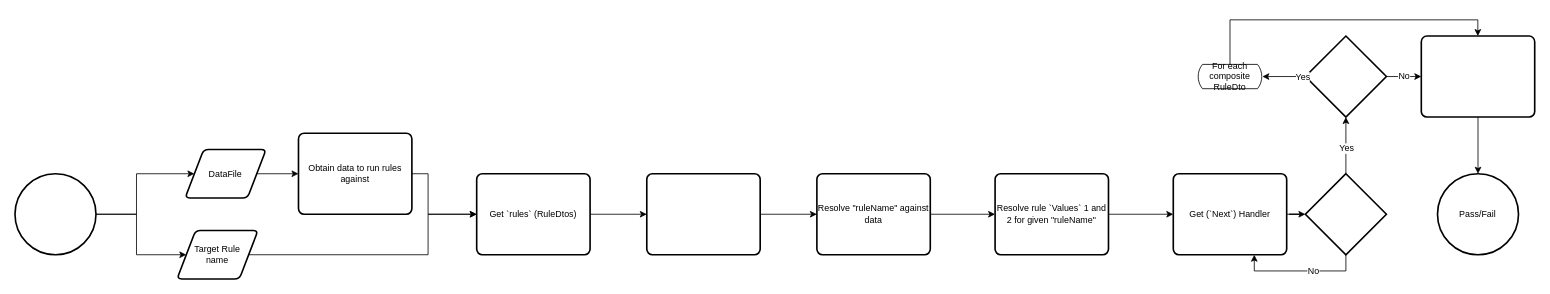
The diagram is 1550 pixels wide and 294 high, and some of its shapes have lost their labels. The shapes that lost their labels are listed below. From the top down, each one's box as (x1, y1, x2, y2) in pixels, then its label:
(1304, 35, 1387, 117): Is composite ("both", "either")?
(1420, 35, 1535, 117): Evaluate Rule
(14, 173, 96, 255): Execute specific rule against a given datagram (from JSON file or array)
(646, 173, 761, 255): Make ComparitorHandlers
(1304, 173, 1387, 255): Can Handle Comparitor for RuleDto?
